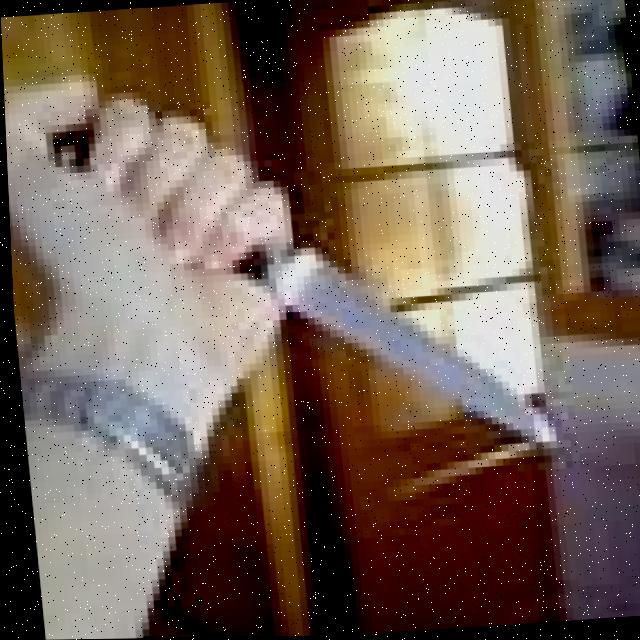knife: (224, 227, 554, 466)
